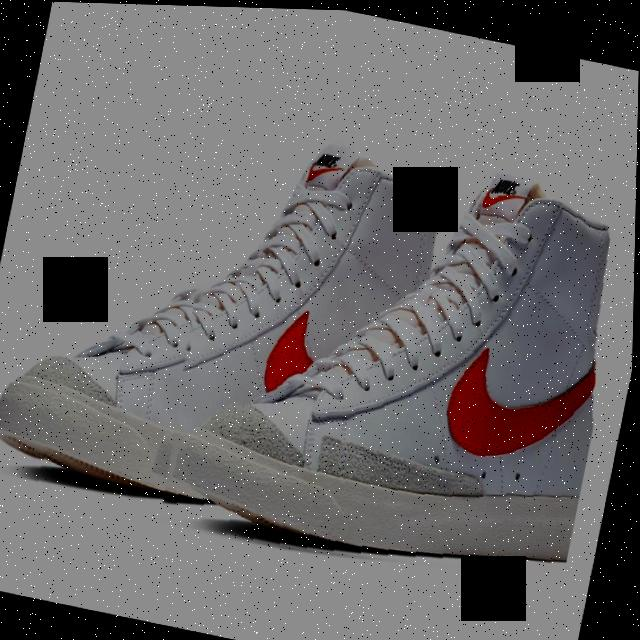shoe: (142, 112, 638, 608), (0, 88, 452, 552)
